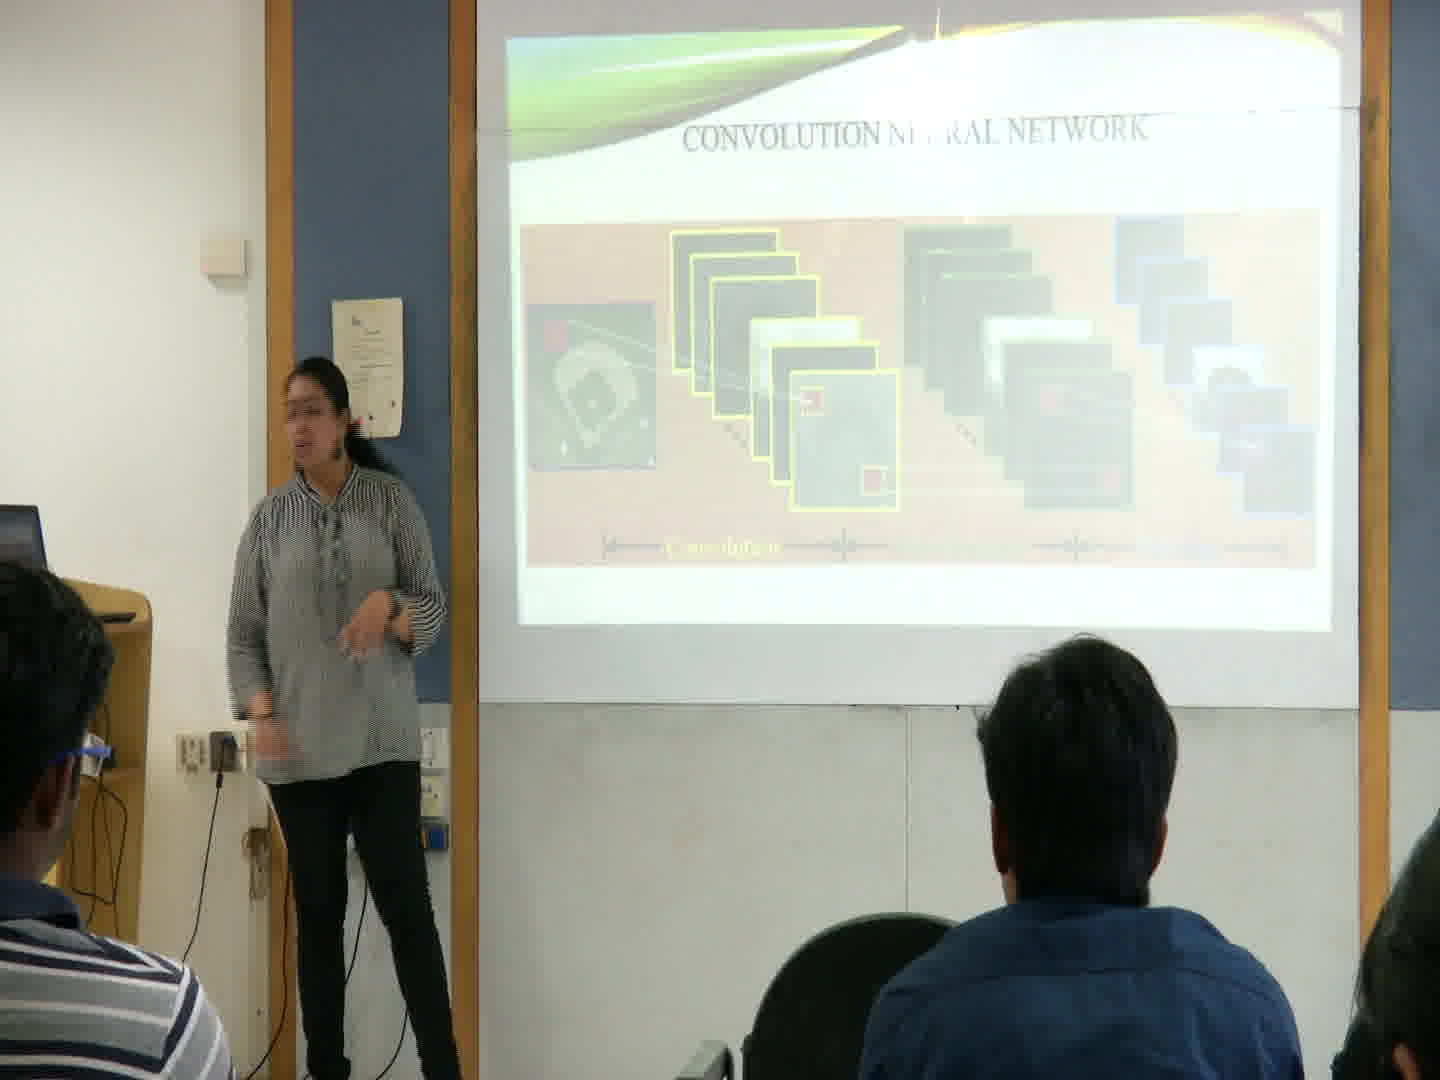fig: (525, 219, 1322, 566)
